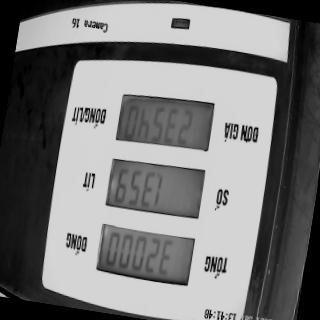screen: (92, 82, 220, 292)
